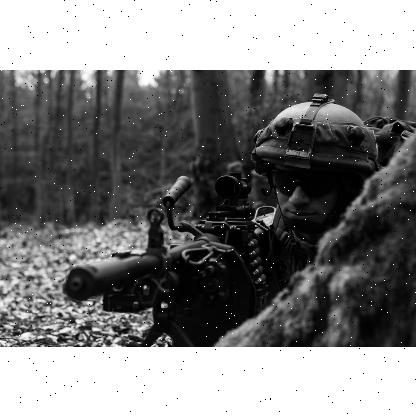gun: (65, 174, 349, 340)
